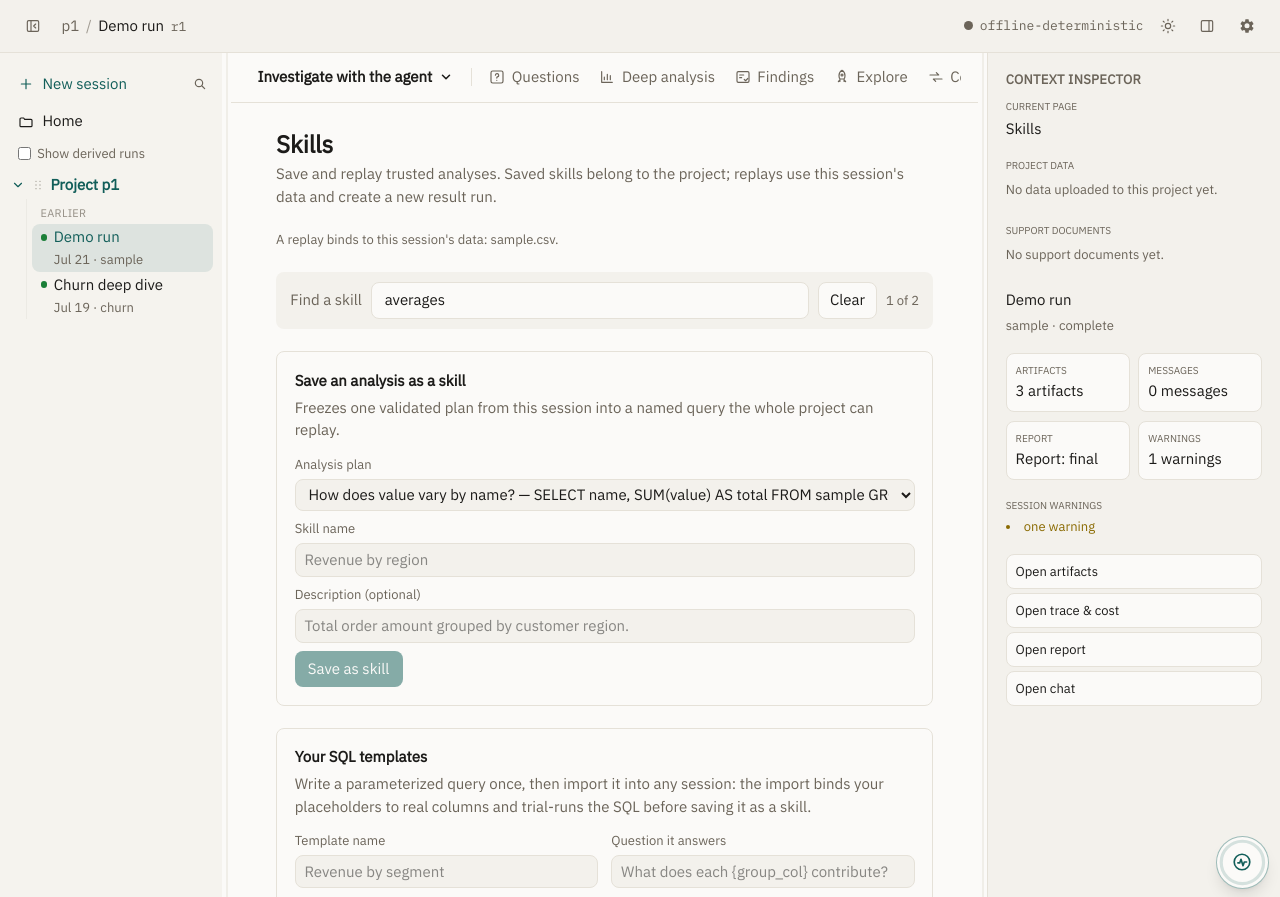
Test: Skills page › restores a shareable skill search and clears only that filter
Expected: the search field labelled "Find a skill" holds "averages", [370,282,809,320]
Expected: the text "Revenue by name" is not shown
Step 1. Click the button "Clear" → {"x": 848, "y": 301}, box [818,282,877,320]
(page scrolled)
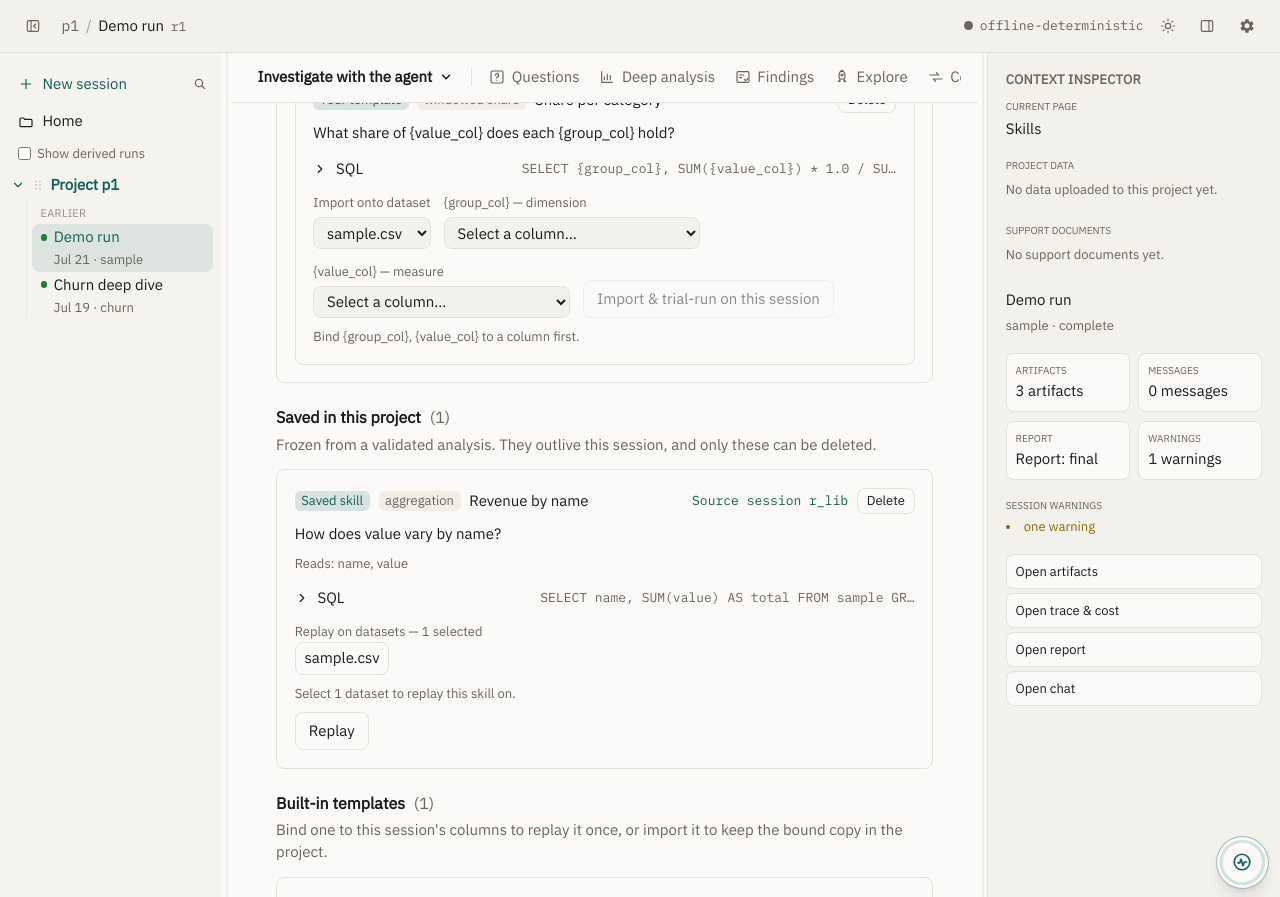
Expected: the text "Revenue by name" is shown, [469,490,589,512]
